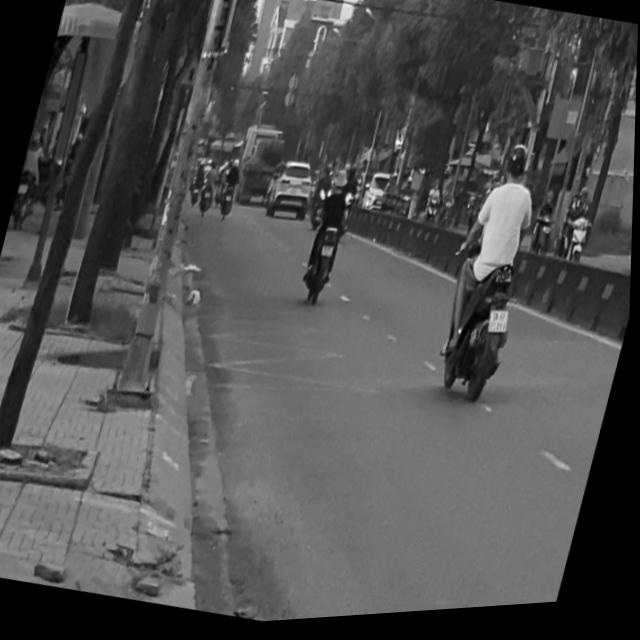helmet: (503, 145, 534, 191)
licenseplate: (427, 137, 558, 412)
nohelmet: (489, 312, 513, 339)
